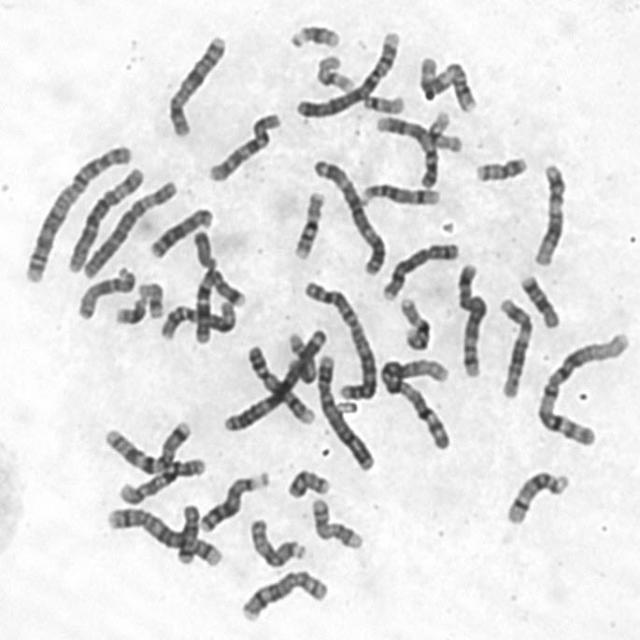A1: (530, 325, 632, 449), (375, 353, 454, 452)
A2: (18, 142, 138, 284), (298, 276, 379, 402)
A3: (222, 328, 322, 434), (308, 152, 389, 278)
B4: (290, 25, 402, 121), (312, 348, 377, 472)
B5: (101, 502, 225, 569), (451, 257, 488, 380)
C10: (203, 108, 283, 185), (114, 452, 207, 507)
C11: (414, 51, 479, 114), (155, 296, 238, 342)
C12: (494, 293, 536, 400), (529, 159, 568, 268)
C6: (76, 175, 179, 278), (63, 160, 145, 276)
C7: (99, 416, 194, 476), (188, 262, 248, 344)
C8: (235, 565, 331, 624), (378, 238, 462, 302)
C9: (244, 339, 318, 427), (372, 111, 439, 190)
D13: (193, 466, 271, 534), (145, 202, 216, 260)
D14: (501, 466, 571, 526), (356, 179, 442, 208)
D15: (72, 261, 137, 321), (245, 513, 307, 570)
E16: (288, 186, 327, 261), (395, 292, 433, 352)
E17: (306, 492, 366, 552), (280, 333, 317, 384)
E18: (515, 269, 561, 330), (172, 500, 200, 566)
F19: (312, 49, 358, 93), (423, 106, 462, 154)
F20: (470, 151, 529, 184), (282, 464, 332, 501)
G21: (285, 19, 342, 52), (110, 291, 150, 327)
G22: (134, 277, 166, 320), (359, 89, 406, 115)
X: (162, 30, 229, 139)
Y: (188, 227, 220, 270)
